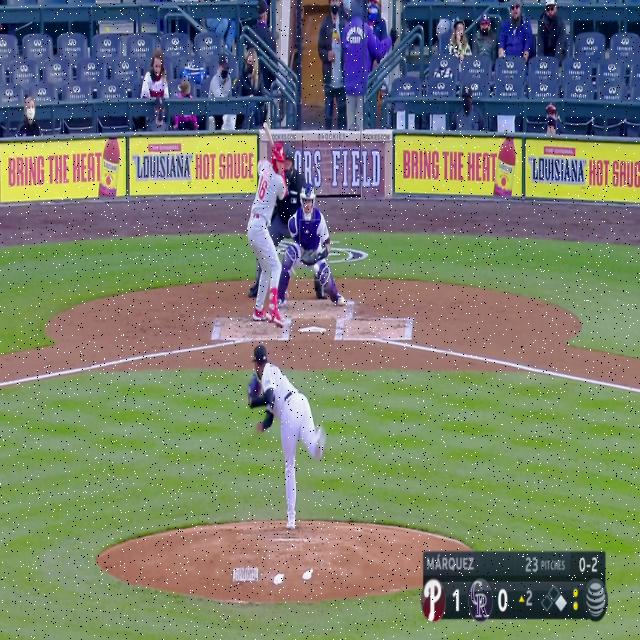baseball: (313, 262, 320, 274)
